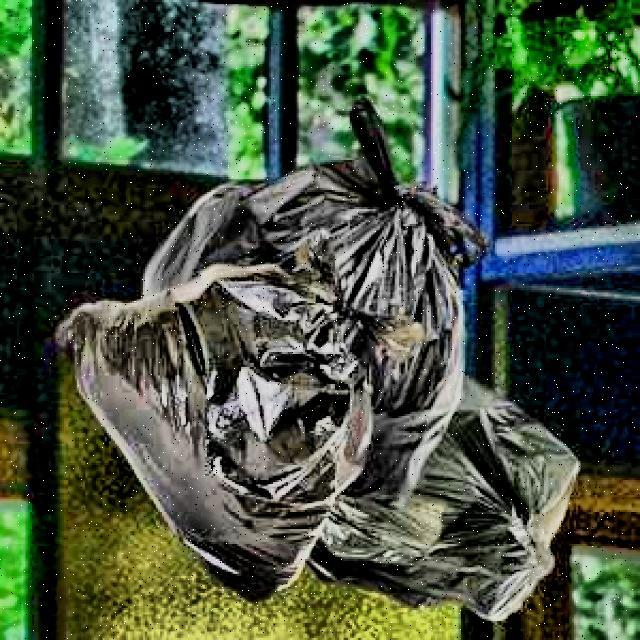Trashbag: (49, 266, 379, 608), (356, 372, 588, 628)
